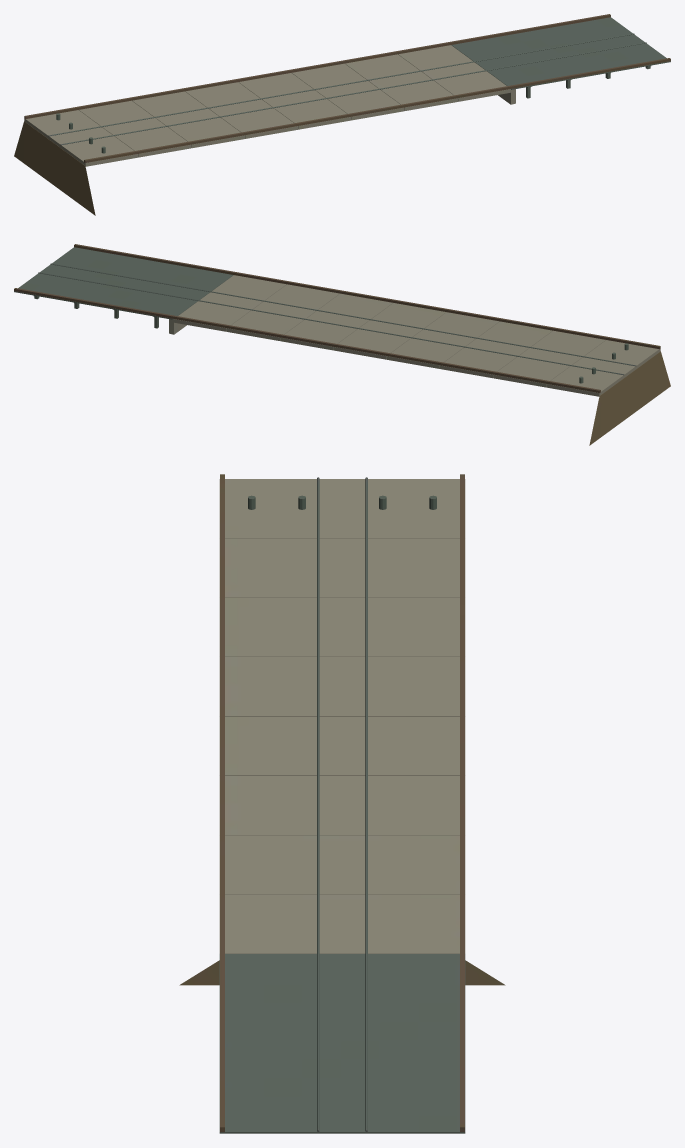
The model's file is jinamoc-seaplane-ramp.glb.
3 views of the same model, one above another, from view 1: azimuth 30°, elevation 25°; view 2: azimuth 150°, elevation 25°; view 3: azimuth 270°, elevation 25° (orthographic). The views are drawn at different scales.
Parts seen in each view (by area): view 1: jinamoc-seaplane-ramp_concrete; view 2: jinamoc-seaplane-ramp_concrete; view 3: jinamoc-seaplane-ramp_concrete.
Boxes of the visible parts, bbox=[...] form: jinamoc-seaplane-ramp_concrete: bbox=[14, 14, 670, 215]; jinamoc-seaplane-ramp_concrete: bbox=[14, 244, 670, 445]; jinamoc-seaplane-ramp_concrete: bbox=[179, 474, 505, 1133].
Size of the model in its own units: 67.06 by 5.35 by 16.19.
Materials: 1 (1 with a texture image).
